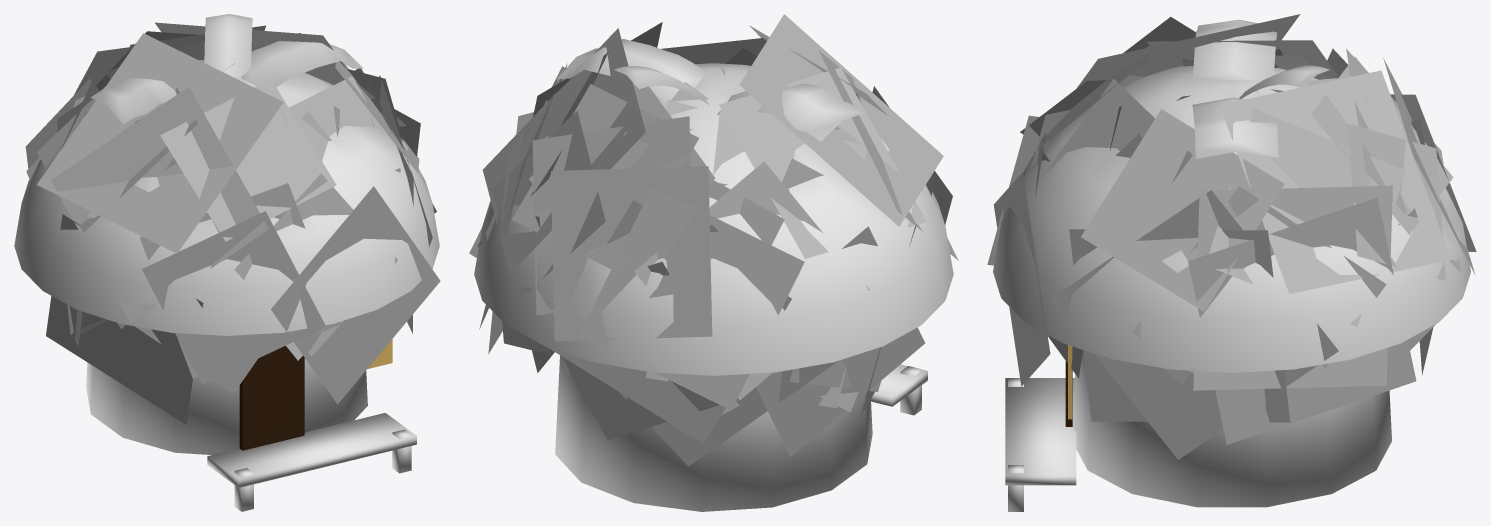
File: cabane5.glb
3 views of the same model, side by side, from view 1: azimuth 30°, elevation 25°; view 2: azimuth 150°, elevation 25°; view 3: azimuth 270°, elevation 25° (orthographic). The views are drawn at different scales.
Parts seen in each view (by area): view 1: touffes, dome, murs, terrasse, palmes, porte; view 2: touffes, dome, murs, palmes, terrasse; view 3: touffes, dome, murs, palmes, terrasse.
Boxes of the visible parts, x1=… form: touffes: x1=25, y1=22, x2=440, y2=424; dome: x1=14, y1=59, x2=439, y2=335; murs: x1=86, y1=358, x2=367, y2=454; terrasse: x1=207, y1=413, x2=416, y2=511; palmes: x1=90, y1=14, x2=363, y2=124; porte: x1=239, y1=345, x2=304, y2=450; touffes: x1=469, y1=14, x2=958, y2=466; dome: x1=474, y1=63, x2=953, y2=375; murs: x1=555, y1=355, x2=872, y2=511; palmes: x1=557, y1=39, x2=863, y2=141; terrasse: x1=871, y1=364, x2=927, y2=415; touffes: x1=987, y1=14, x2=1476, y2=459; dome: x1=993, y1=66, x2=1470, y2=372; murs: x1=1072, y1=350, x2=1391, y2=507; palmes: x1=1192, y1=19, x2=1329, y2=158; terrasse: x1=1005, y1=378, x2=1076, y2=511.
Bounding box in the file's own units: 5.38 × 5.24 × 5.5.
